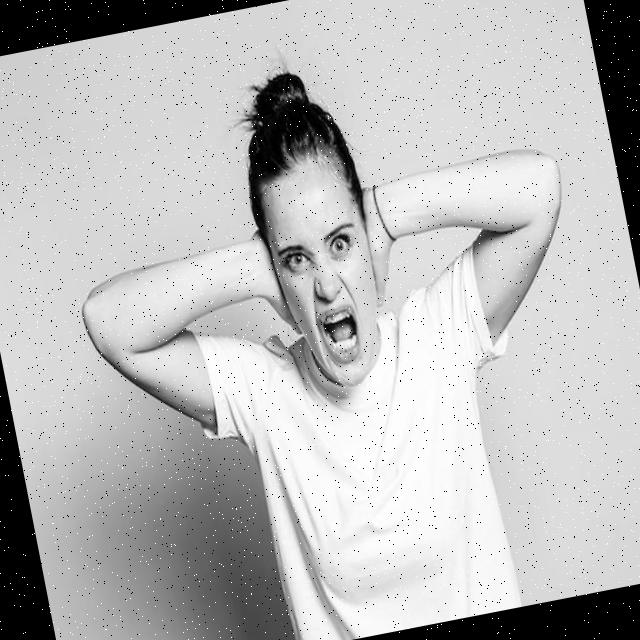Angry: (255, 160, 395, 397)
